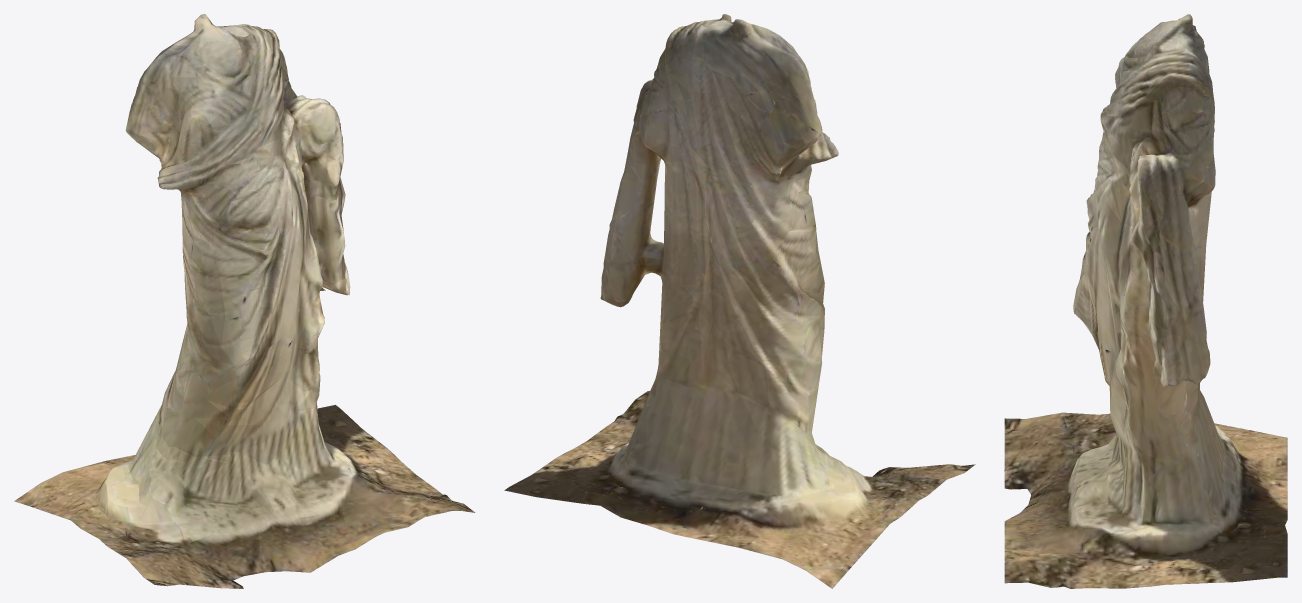
Rendered from roman-togatus-statue.glb.
3 views of the same model, side by side, from view 1: azimuth 30°, elevation 25°; view 2: azimuth 150°, elevation 25°; view 3: azimuth 270°, elevation 25° (orthographic). The views are drawn at different scales.
Parts seen in each view (by area): view 1: Object_2; view 2: Object_2; view 3: Object_2.
Boxes of the visible parts, x1,y1,x2,y2 form: Object_2: (14,14,475,588); Object_2: (504,14,975,588); Object_2: (1004,14,1287,588).
Size of the model in its own units: 0.5709 by 0.8401 by 0.432.
Materials: 1 (1 with a texture image).
